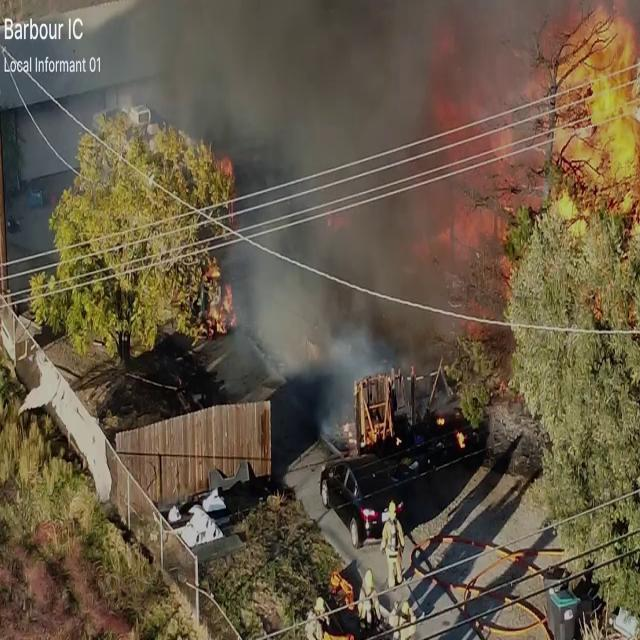Fire: (536, 3, 640, 242)
Smoke: (206, 0, 512, 410)
